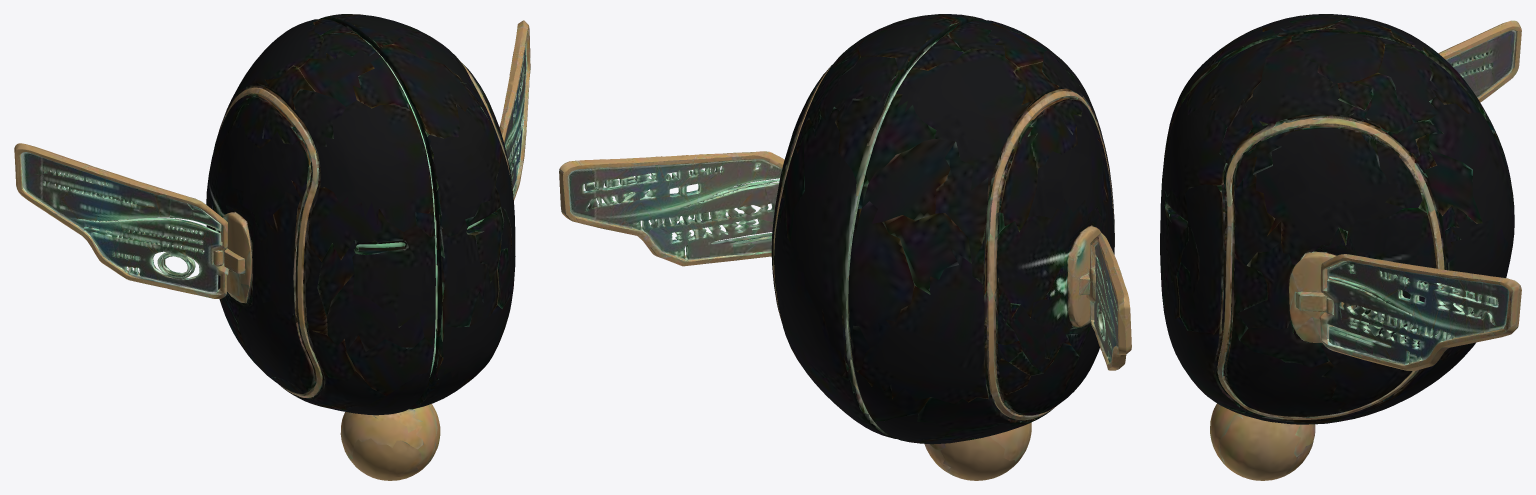
File: axiom.glb
3 views of the same model, side by side, from view 1: azimuth 30°, elevation 25°; view 2: azimuth 150°, elevation 25°; view 3: azimuth 270°, elevation 25° (orthographic). The views are drawn at different scales.
Visible parts, largest first — view 1: mesh_node; view 2: mesh_node; view 3: mesh_node.
Part boxes in pixels (<box>): mesh_node: <box>14,14,530,480</box>; mesh_node: <box>559,14,1131,480</box>; mesh_node: <box>1160,14,1521,480</box>.
Size of the model in its own units: 1.9 by 1.49 by 1.1.
Materials: 1 (1 with a texture image).
